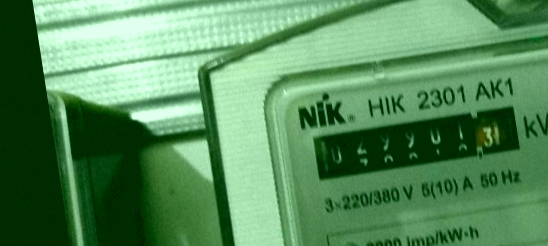0: (423, 120, 442, 147), (324, 141, 343, 165)
1: (450, 116, 466, 141)
2: (349, 132, 368, 156)
3: (477, 124, 495, 149)
9: (400, 126, 415, 150), (375, 129, 390, 151)
screen: (301, 96, 529, 191)
